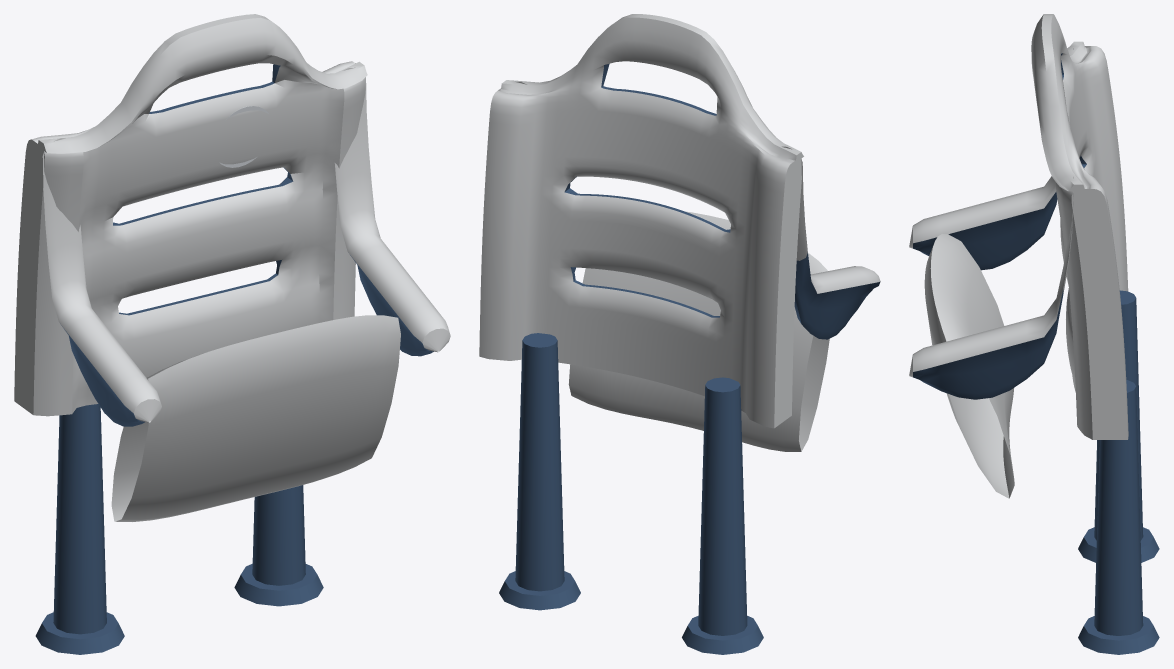
File: seat_lod0.glb
The picture shows the model from 3 angles, left to right: view 1: azimuth 30°, elevation 25°; view 2: azimuth 150°, elevation 25°; view 3: azimuth 270°, elevation 25°; orthographic projection. The views are drawn at different scales.
Visible parts, largest first — view 1: Seat_Shell, Seat_Frame; view 2: Seat_Shell, Seat_Frame; view 3: Seat_Shell, Seat_Frame.
Boxes of the visible parts, x1,y1,x2,y2 form: Seat_Shell: [14, 14, 450, 521]; Seat_Frame: [35, 64, 433, 654]; Seat_Shell: [479, 14, 880, 451]; Seat_Frame: [499, 63, 880, 654]; Seat_Shell: [909, 14, 1128, 498]; Seat_Frame: [913, 53, 1159, 654].
Bounding box in the file's own units: 0.4676 × 0.855 × 0.343.
